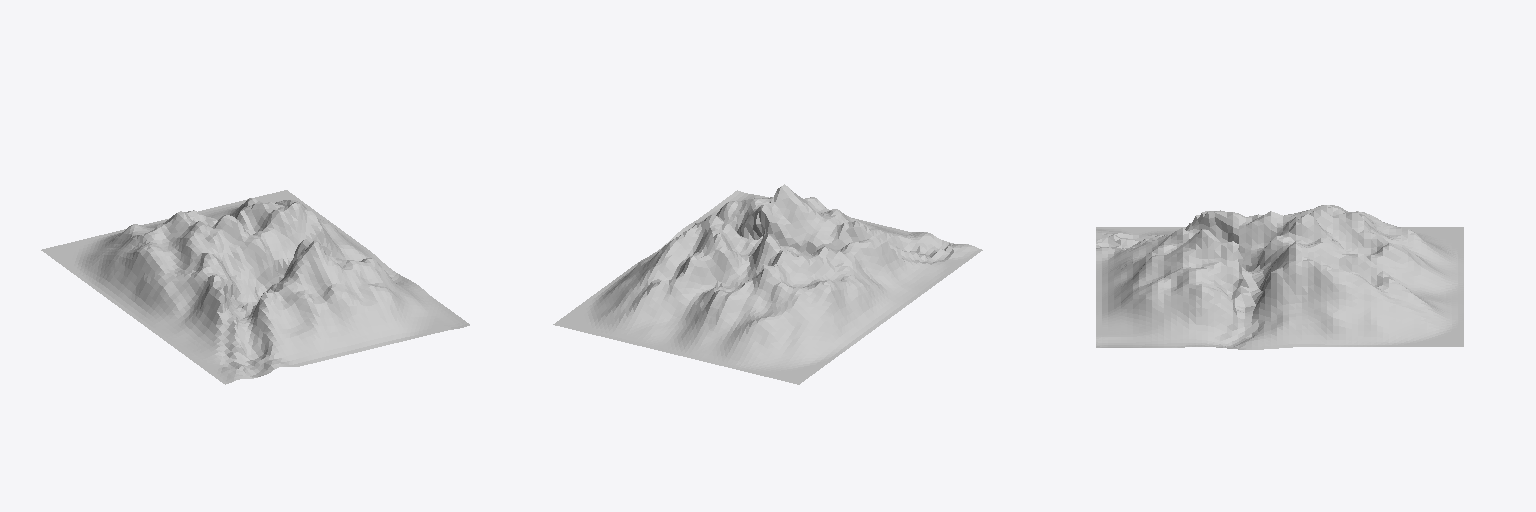
File: terreno2.obj
3 views of the same model, side by side, from view 1: azimuth 30°, elevation 25°; view 2: azimuth 150°, elevation 25°; view 3: azimuth 270°, elevation 25° (orthographic).
Visible parts, largest first — view 1: Landscape_Material.001; view 2: Landscape_Material.001; view 3: Landscape_Material.001.
Boxes of the visible parts, x1=… form: Landscape_Material.001: x1=41, y1=190, x2=469, y2=384; Landscape_Material.001: x1=553, y1=184, x2=982, y2=384; Landscape_Material.001: x1=1096, y1=205, x2=1463, y2=349.
Size of the model in its own units: 6.47 by 1.88 by 8.39.